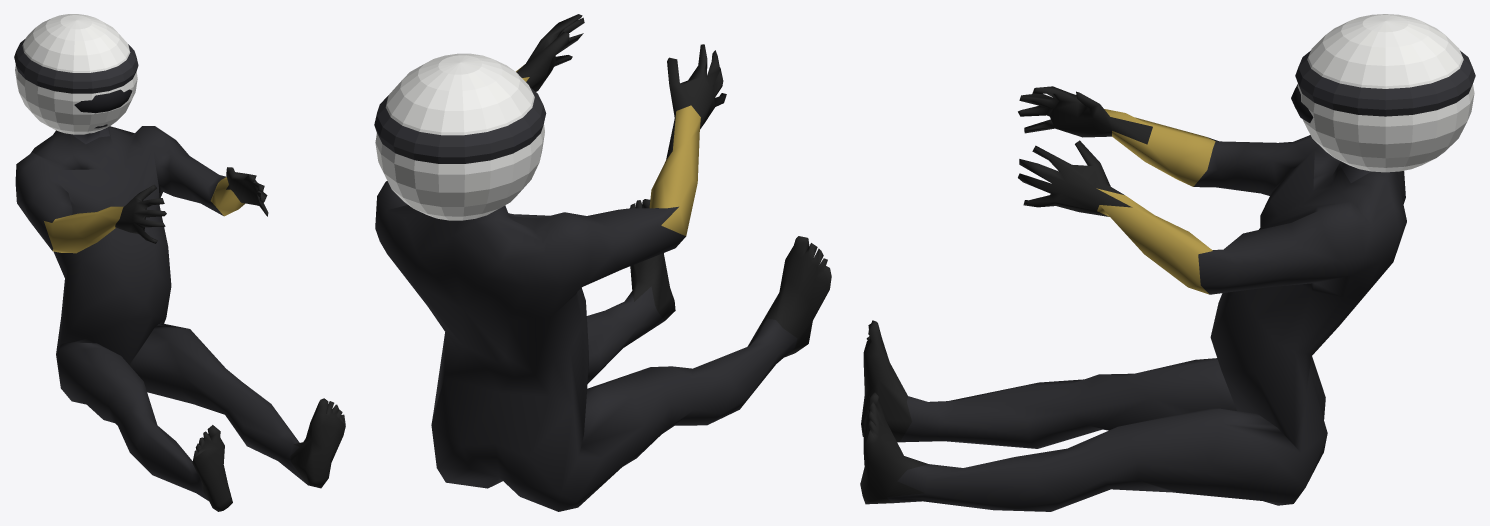
File: driver_55.glb
3 renders of one model, left to right at view 1: azimuth 30°, elevation 25°; view 2: azimuth 150°, elevation 25°; view 3: azimuth 270°, elevation 25°, orthographic. The views are drawn at different scales.
Parts seen in each view (by area): view 1: driver_55 people, driver_55; view 2: driver_55 people, driver_55; view 3: driver_55 people, driver_55.
Part boxes in pixels (x1,y1,x2,y2): driver_55 people: (15,124,345,511); driver_55: (14,14,138,134); driver_55 people: (375,14,831,511); driver_55: (374,53,546,220); driver_55 people: (860,86,1406,511); driver_55: (1291,14,1475,172).
Bounding box in the file's own units: 0.5243 × 0.9272 × 1.12.
